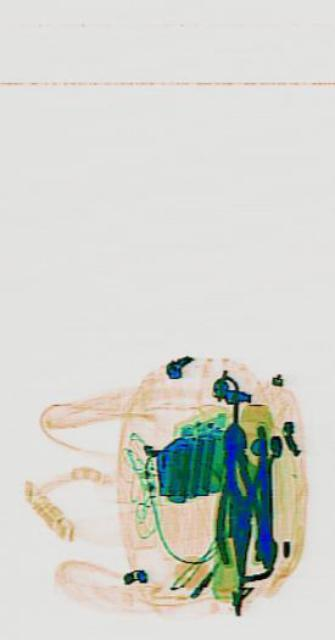Pliers: (211, 421, 260, 564)
